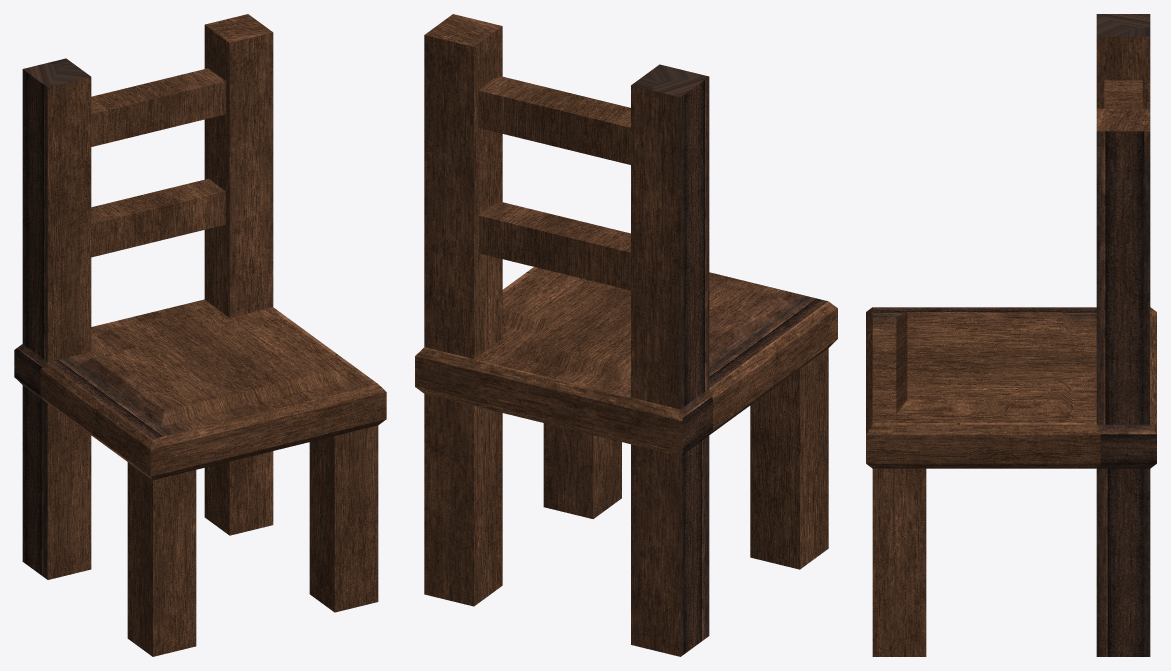
The model's file is Chair_high.fbx.
3 views of the same model, side by side, from view 1: azimuth 30°, elevation 25°; view 2: azimuth 150°, elevation 25°; view 3: azimuth 270°, elevation 25° (orthographic). The views are drawn at different scales.
Parts seen in each view (by area): view 1: Cube.009; view 2: Cube.009; view 3: Cube.009.
Boxes of the visible parts, x1=… form: Cube.009: x1=14, y1=14, x2=386, y2=656; Cube.009: x1=415, y1=14, x2=837, y2=656; Cube.009: x1=866, y1=14, x2=1156, y2=656.
Size of the model in its own units: 1.25 by 2.5 by 1.25.
1 material, 1 textured.
